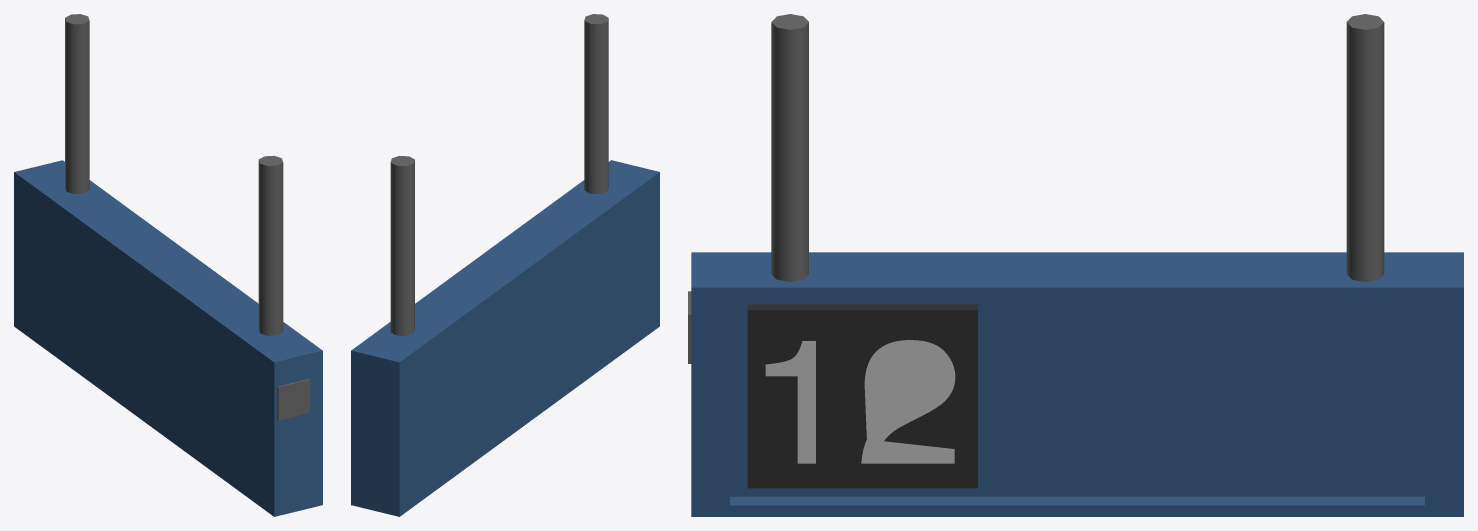
The model's file is Schild (U-Bahn).fbx.
3 renders of one model, left to right at view 1: azimuth 30°, elevation 25°; view 2: azimuth 150°, elevation 25°; view 3: azimuth 270°, elevation 25°, orthographic. The views are drawn at different scales.
Visible parts, largest first — view 1: body, Zylinder_2, Würfel_1; view 2: body, Zylinder_2; view 3: body, Würfel, Zylinder_2, 12.
Part boxes in pixels (bbox=[...]): body: bbox=[14, 160, 322, 516]; Zylinder_2: bbox=[65, 14, 283, 335]; Würfel_1: bbox=[277, 379, 310, 420]; body: bbox=[351, 160, 659, 516]; Zylinder_2: bbox=[390, 14, 608, 335]; body: bbox=[691, 252, 1463, 516]; Würfel: bbox=[747, 304, 977, 488]; Zylinder_2: bbox=[771, 14, 1384, 281]; 12: bbox=[765, 340, 955, 463].
Size of the model in its own units: 57.85 by 369 by 539.
